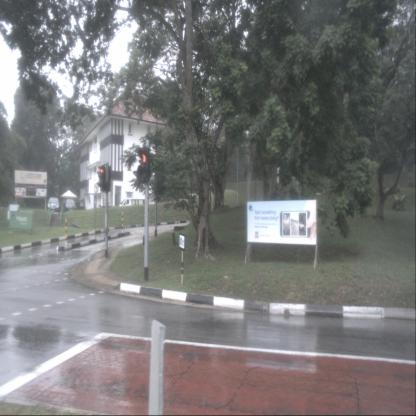vehicle-car: (119, 198, 147, 215), (62, 198, 77, 212), (47, 197, 60, 213)
